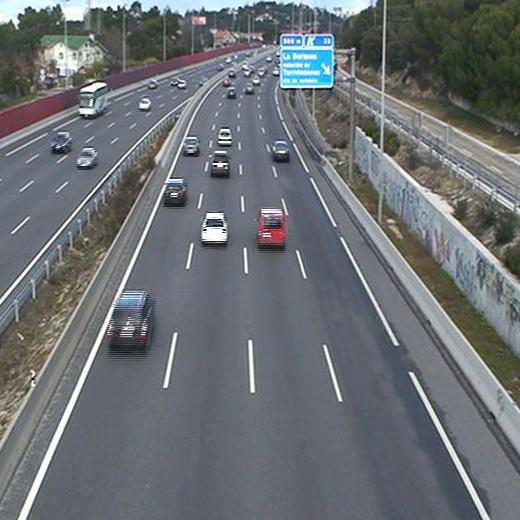car: (100, 287, 162, 358), (195, 206, 234, 251), (158, 175, 190, 211), (206, 147, 233, 180), (267, 137, 293, 165), (179, 134, 202, 158), (215, 125, 236, 150), (226, 85, 239, 101)
van: (252, 206, 292, 253)
